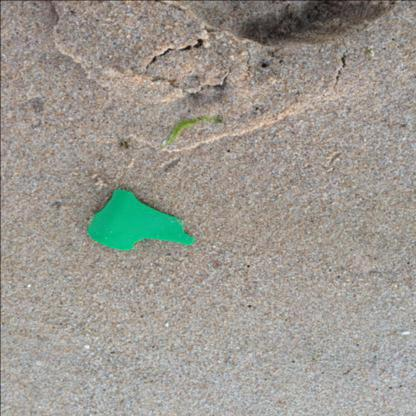Other plastic: (87, 188, 196, 250)
